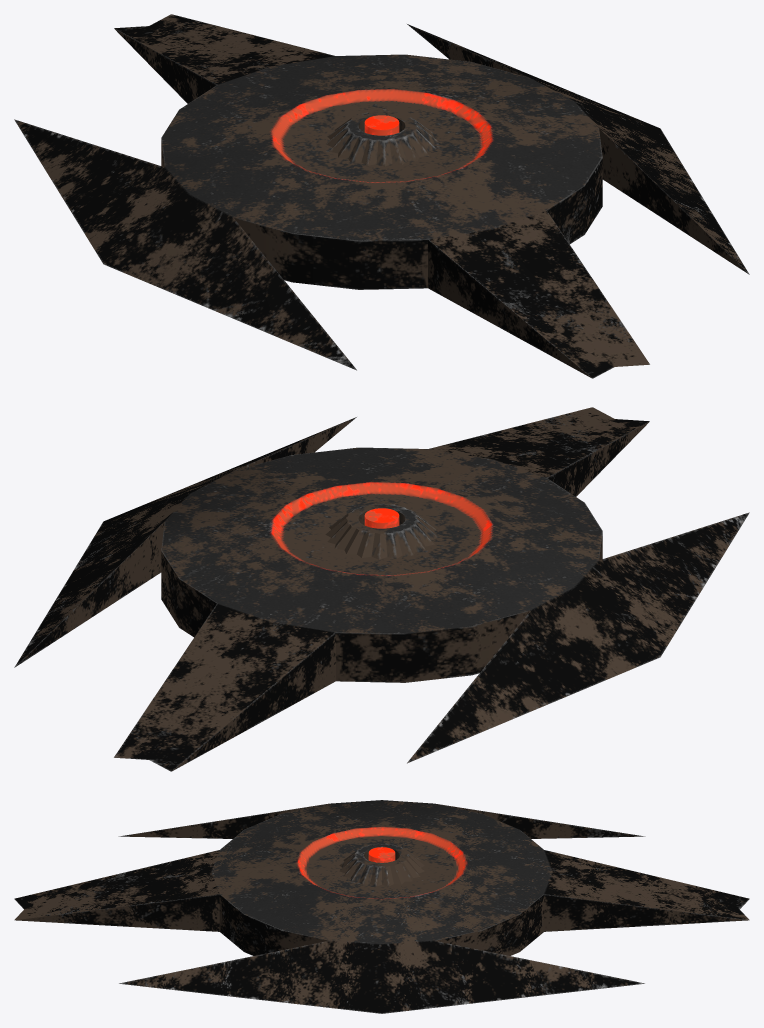
File: mine.glb
3 renders of one model, top to bottom at view 1: azimuth 30°, elevation 25°; view 2: azimuth 150°, elevation 25°; view 3: azimuth 270°, elevation 25°, orthographic. The views are drawn at different scales.
Parts seen in each view (by area): view 1: Object_2; view 2: Object_2; view 3: Object_2.
Boxes of the visible parts, <box> form: Object_2: <box>14,14,749,378</box>; Object_2: <box>14,407,749,771</box>; Object_2: <box>14,800,749,1013</box>.
Size of the model in its own units: 16.28 by 2.09 by 24.25.
Materials: 1 (1 with a texture image).
